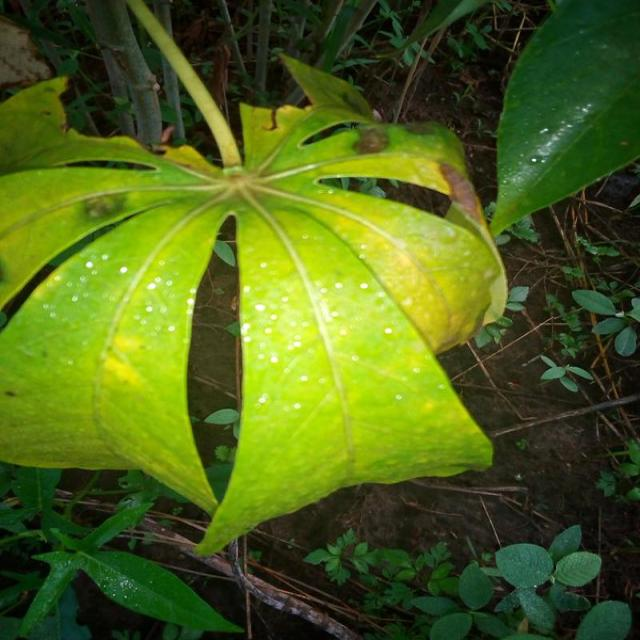cassava leaf: (0, 11, 509, 556), (488, 0, 639, 238)
